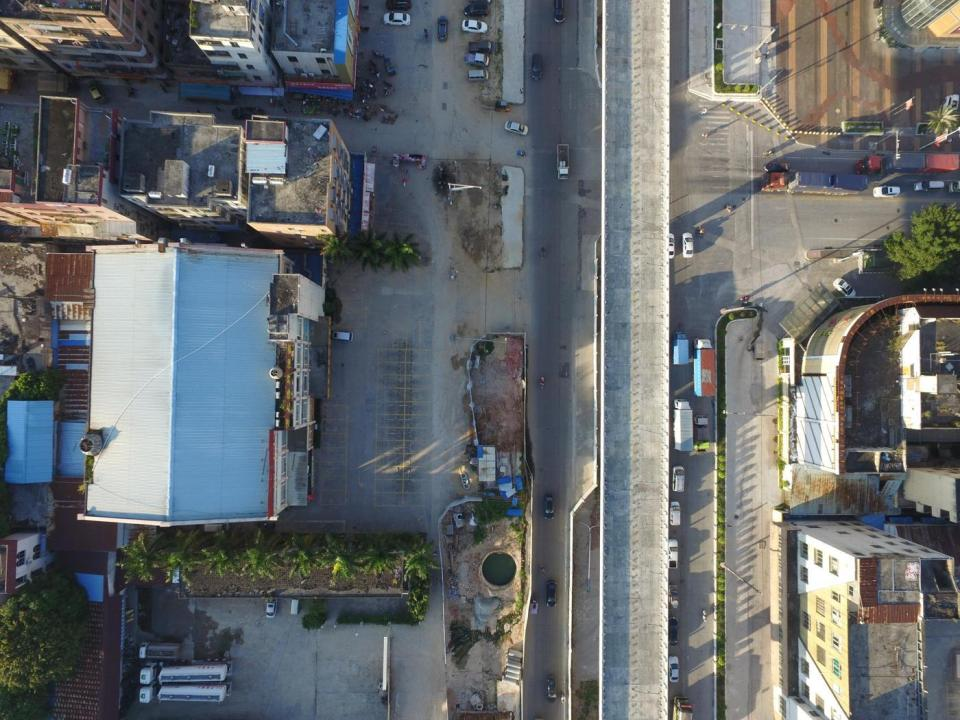bus: (671, 694, 695, 720)
car: (941, 92, 959, 120), (832, 278, 856, 298), (872, 184, 902, 200), (230, 107, 264, 121), (460, 19, 488, 36), (381, 11, 410, 27), (464, 2, 488, 19), (666, 616, 680, 645), (504, 120, 528, 136), (545, 674, 558, 703), (668, 654, 681, 683), (681, 231, 695, 257), (530, 53, 544, 79), (543, 492, 555, 521), (762, 160, 788, 173), (436, 15, 449, 41), (383, 0, 413, 11), (265, 595, 278, 619), (553, 0, 565, 25), (546, 581, 557, 607), (665, 232, 676, 258)
truck: (760, 172, 868, 196), (855, 153, 960, 177), (139, 658, 234, 684), (137, 682, 233, 704), (692, 334, 719, 397), (671, 397, 694, 451), (139, 641, 181, 661), (692, 412, 710, 455), (672, 330, 690, 365), (556, 143, 571, 180), (466, 40, 498, 53), (462, 51, 488, 66), (666, 539, 679, 568), (383, 56, 395, 75)
van: (914, 178, 944, 193), (670, 466, 686, 493), (667, 583, 681, 609), (466, 68, 489, 82), (326, 330, 354, 341), (669, 500, 680, 525), (290, 595, 303, 616)
